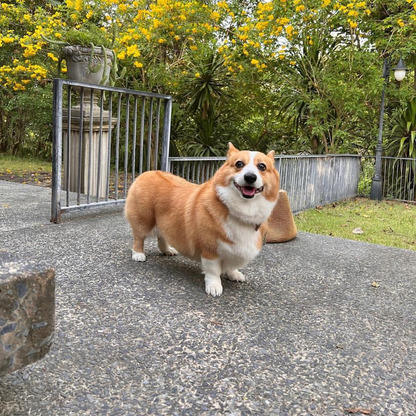Corgi: (122, 134, 283, 308)
